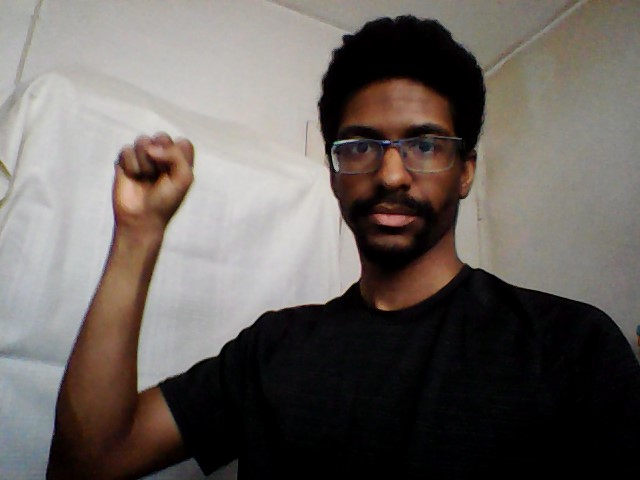s: (110, 128, 199, 235)
